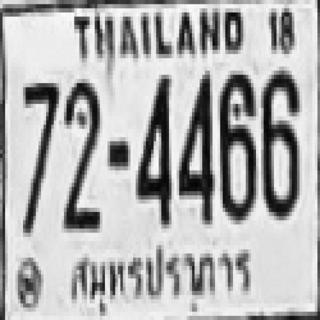N02: (63, 79, 99, 228)
N04: (177, 71, 212, 220), (136, 73, 169, 222)
N06: (261, 66, 297, 216), (218, 71, 253, 216)
N07: (22, 79, 58, 233), (22, 79, 58, 216)
P57: (68, 241, 256, 315)
